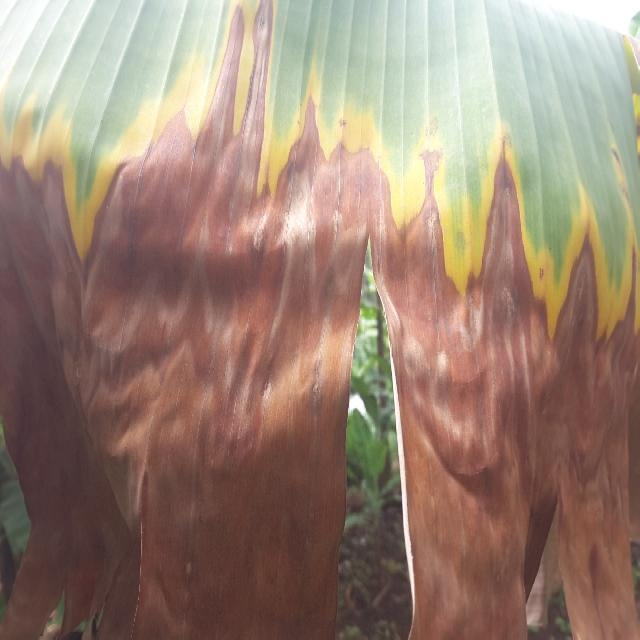Cordana: (0, 0, 639, 370)
